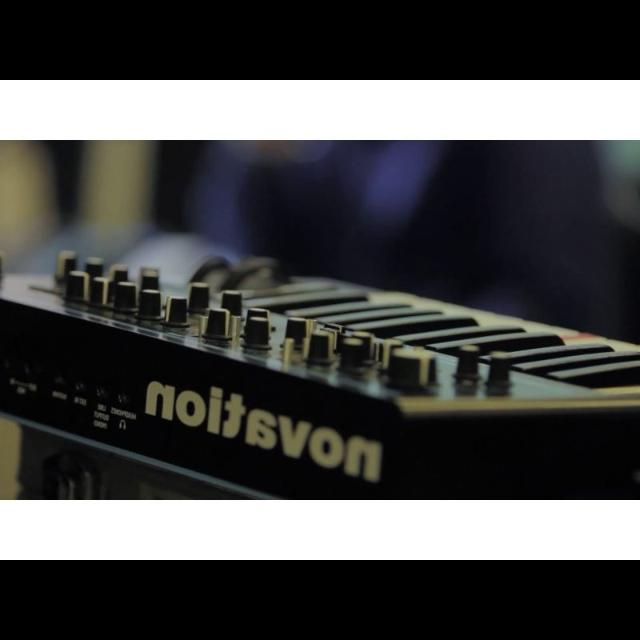Electronic-Keyboard: (14, 220, 628, 482)
